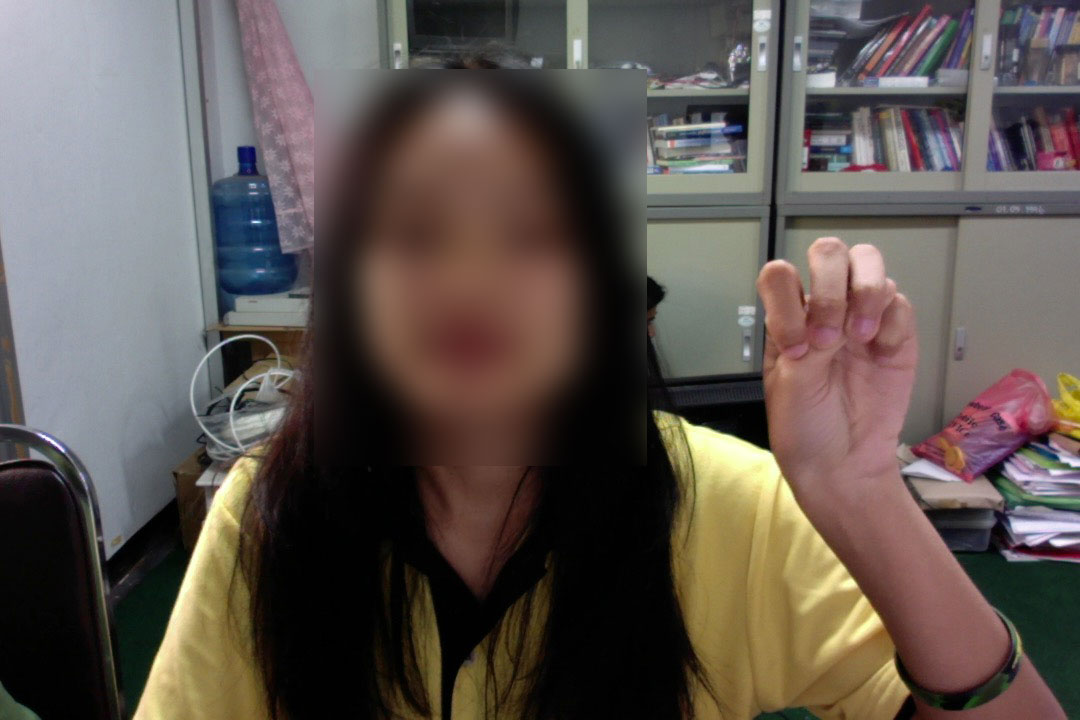mor: (748, 230, 924, 494)
